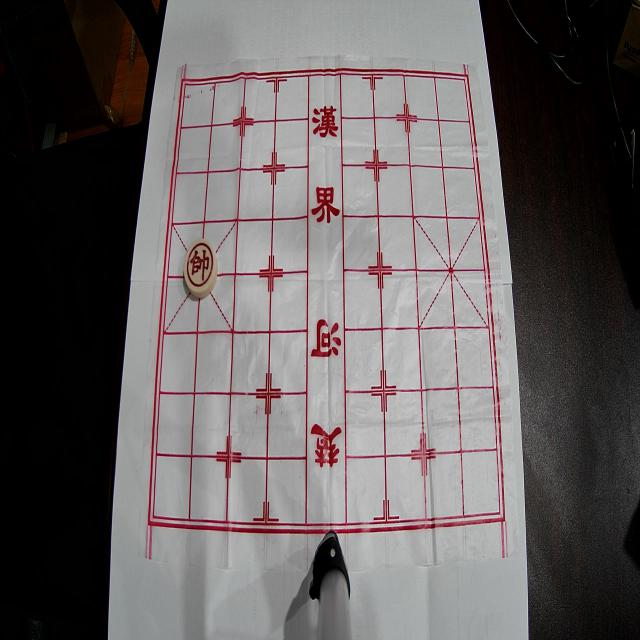red-general: (184, 239, 218, 298)
